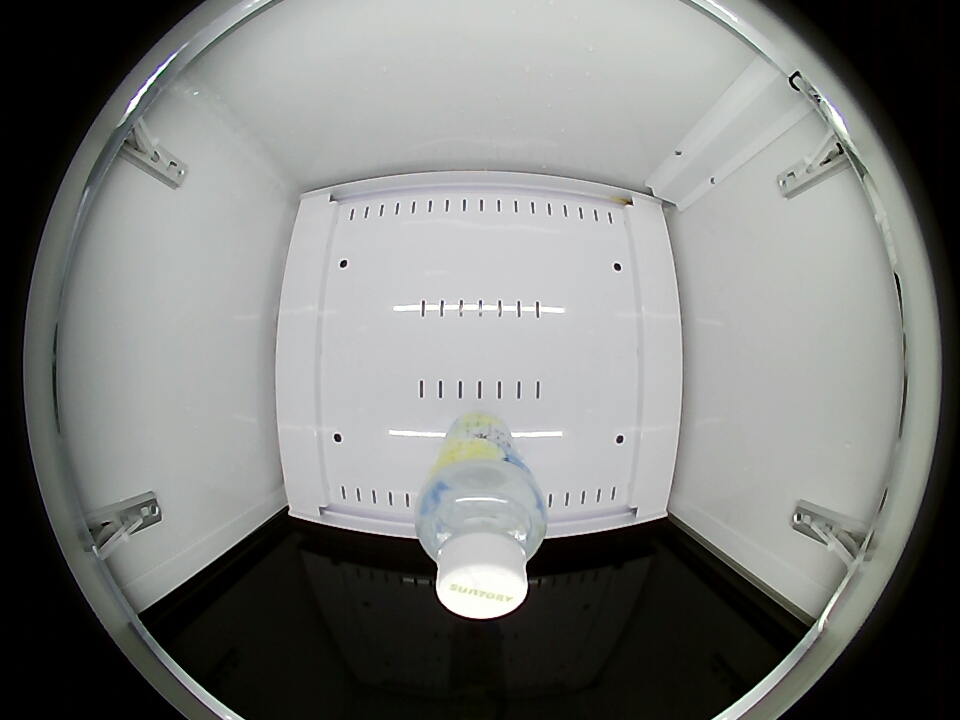qinningshui: (418, 469, 547, 621)
